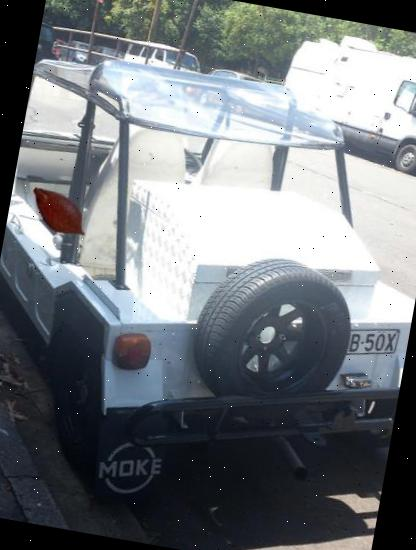Salak: (19, 172, 99, 252)
